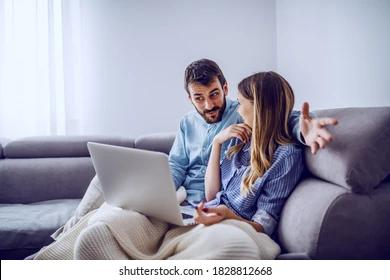blanket: (32, 202, 282, 261)
long sleeve shirt: (167, 96, 318, 204), (201, 132, 306, 236)
